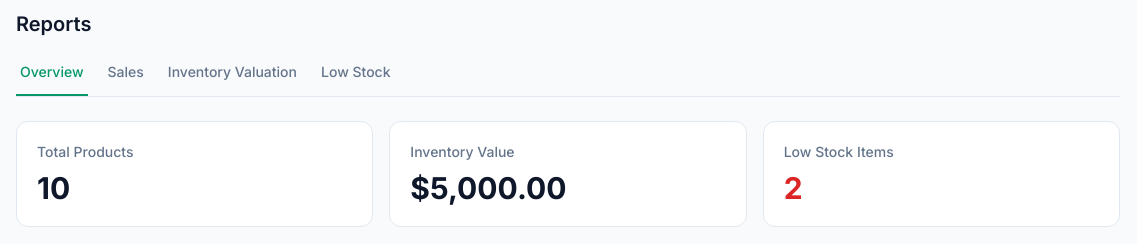
Scenario: ReportsPage › as admin › shows low stock items when Low Stock tab clicked
The image size is (1137, 244).
Click the tab "Low Stock". click: (356, 79)
box: [317,62,394,96]
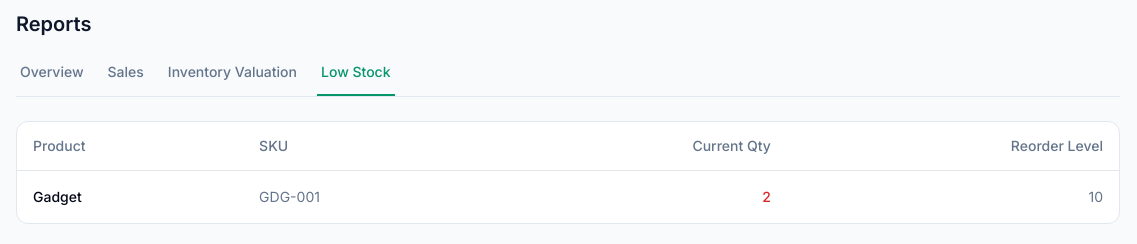
expect the text "Gadget" is shown: met, box [17,170,243,222]
